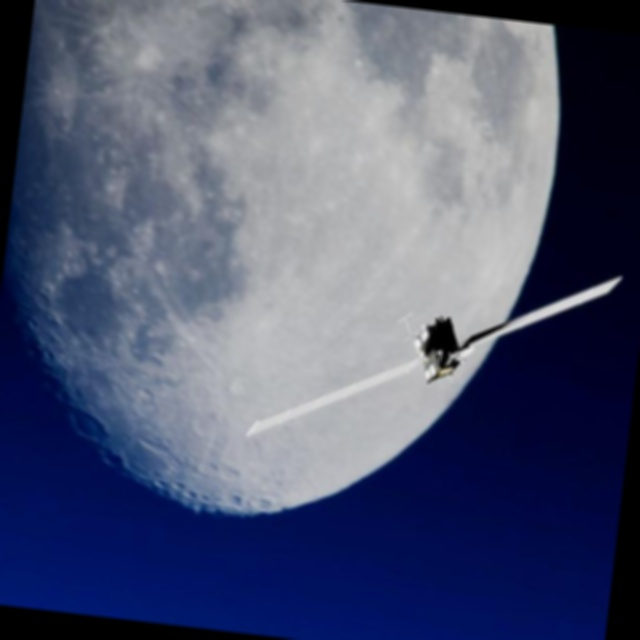satellite: (241, 228, 627, 487)
